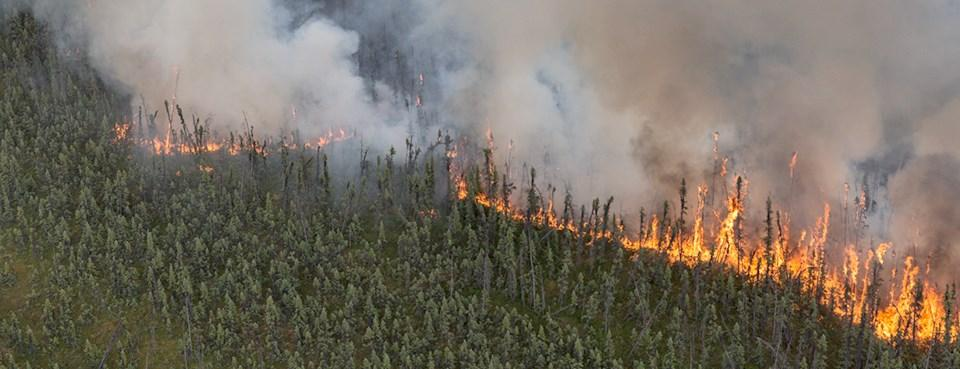fire: (443, 163, 960, 353), (98, 97, 360, 178)
